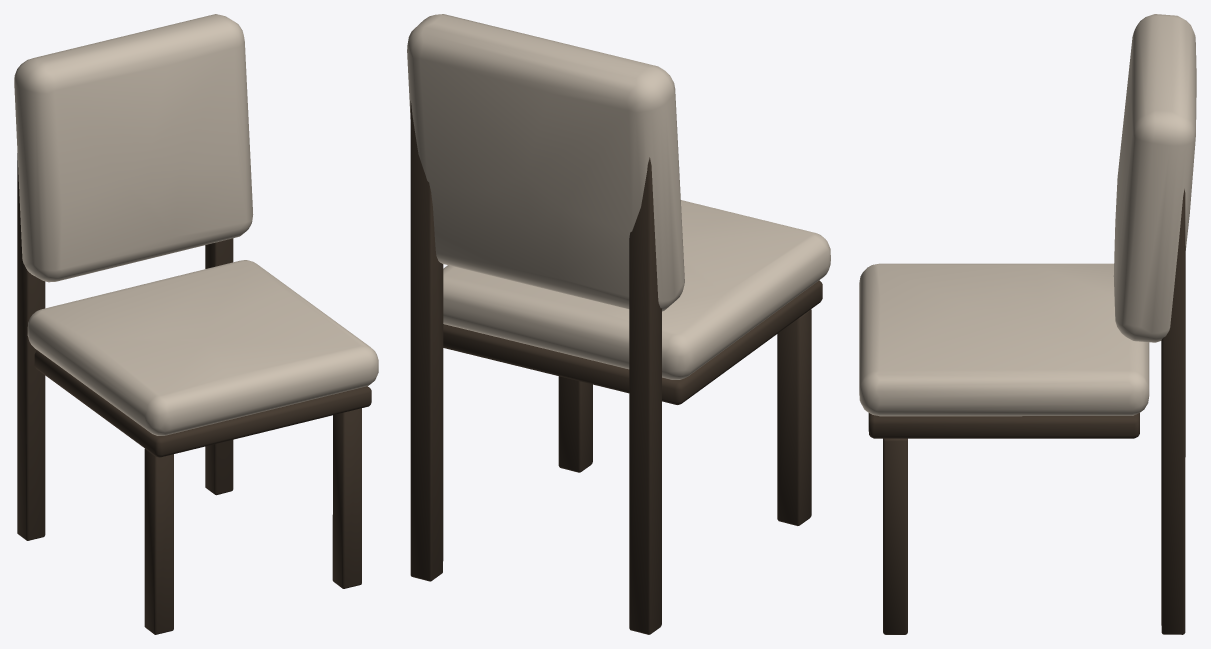
Rendered from dining-chair.glb.
3 renders of one model, left to right at view 1: azimuth 30°, elevation 25°; view 2: azimuth 150°, elevation 25°; view 3: azimuth 270°, elevation 25°, orthographic. The views are drawn at different scales.
Visible parts, largest first — view 1: EQ_Mobile_dining-chair_Upholstery, EQ_Mobile_dining-chair_OakStructure; view 2: EQ_Mobile_dining-chair_Upholstery, EQ_Mobile_dining-chair_OakStructure; view 3: EQ_Mobile_dining-chair_Upholstery, EQ_Mobile_dining-chair_OakStructure.
Boxes of the visible parts, box(x1,y1,x2,y2) form: EQ_Mobile_dining-chair_Upholstery: box(14, 14, 378, 435); EQ_Mobile_dining-chair_OakStructure: box(17, 153, 371, 634); EQ_Mobile_dining-chair_Upholstery: box(407, 14, 830, 379); EQ_Mobile_dining-chair_OakStructure: box(410, 101, 822, 634); EQ_Mobile_dining-chair_Upholstery: box(859, 14, 1196, 416); EQ_Mobile_dining-chair_OakStructure: box(868, 189, 1185, 634).
Bounding box in the file's own units: 0.48 × 0.9447 × 0.5585.
